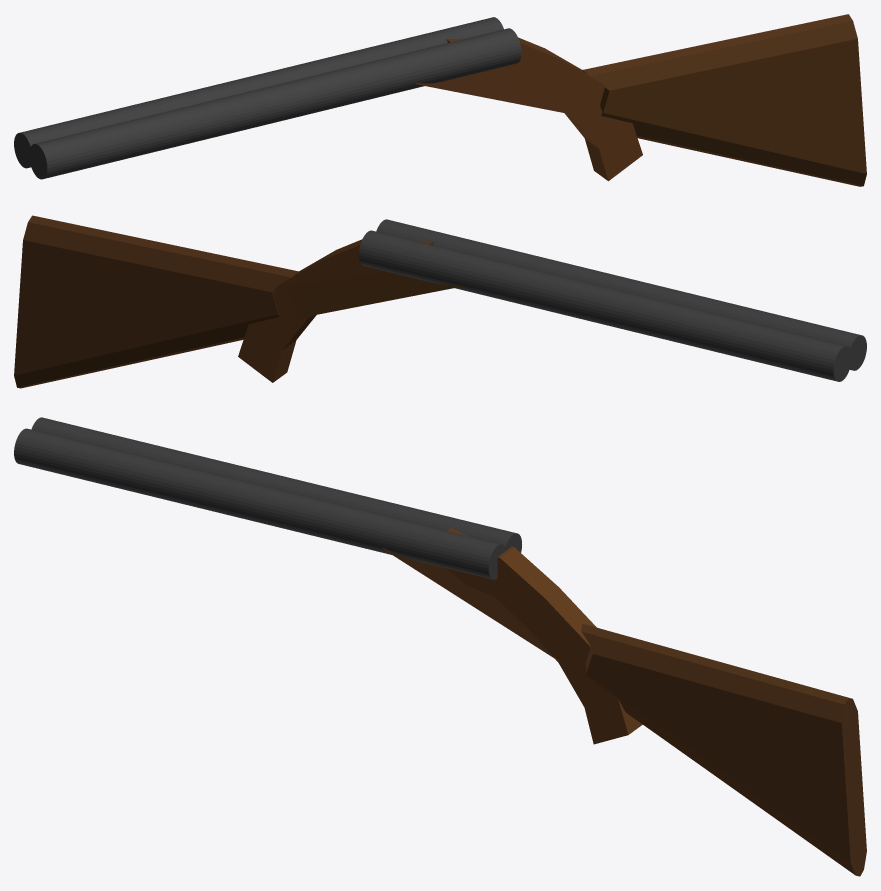
Rendered from DB Shotgun.fbx.
The picture shows the model from 3 angles, top to bottom: view 1: azimuth 30°, elevation 25°; view 2: azimuth 150°, elevation 25°; view 3: azimuth 330°, elevation 25°; orthographic projection.
Parts seen in each view (by area): view 1: Hilt, Barrel, Barrel.001, Cube, Cube.001; view 2: Hilt, Barrel.001, Barrel, Cube, Cube.001; view 3: Hilt, Barrel, Cube, Barrel.001, Cube.001.
Boxes of the visible parts, x1,y1,x2,y2 form: Hilt: (582, 14, 866, 186); Barrel: (29, 28, 521, 179); Barrel.001: (14, 17, 503, 168); Cube: (446, 37, 642, 181); Cube.001: (415, 77, 580, 116); Hilt: (14, 215, 299, 388); Barrel.001: (359, 230, 851, 381); Barrel: (376, 219, 866, 370); Cube: (238, 239, 433, 382); Cube.001: (289, 272, 462, 318); Hilt: (581, 624, 866, 876); Barrel: (14, 428, 505, 579); Cube: (446, 528, 642, 744); Barrel.001: (31, 417, 521, 552); Cube.001: (382, 547, 565, 665).
Size of the model in its own units: 643 by 185 by 45.28.
